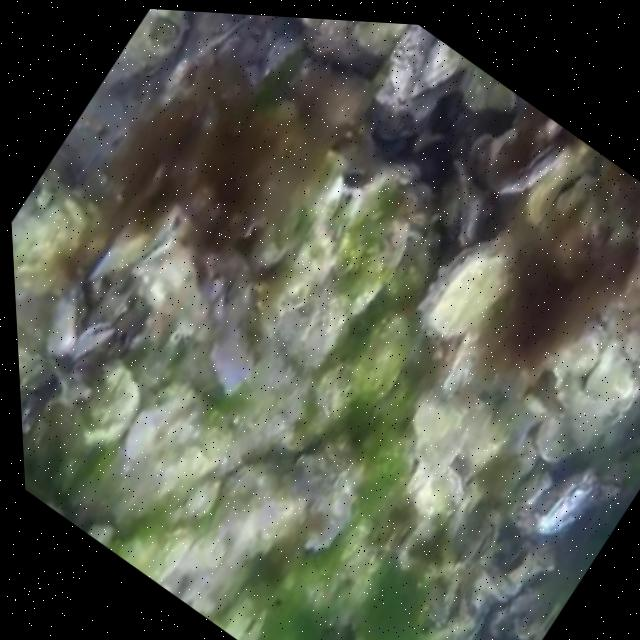Oyster-Closed: (416, 238, 515, 341), (537, 471, 623, 535), (210, 290, 255, 393), (499, 141, 571, 194), (458, 64, 516, 114), (51, 285, 88, 358), (455, 160, 486, 245), (144, 201, 185, 259), (349, 21, 406, 54), (555, 172, 595, 215), (69, 322, 114, 356), (506, 543, 536, 585), (532, 538, 554, 572), (544, 117, 564, 139), (632, 236, 640, 290)
Oyster-Indeterminate: (12, 168, 103, 293), (98, 9, 188, 89), (413, 391, 468, 475), (15, 281, 58, 387), (356, 316, 412, 395), (112, 531, 192, 584), (389, 24, 435, 99), (550, 326, 604, 388), (443, 321, 490, 391), (412, 39, 466, 94), (586, 341, 632, 397), (415, 471, 462, 515), (536, 414, 577, 460), (266, 34, 303, 77), (303, 18, 348, 51)
Oyster-Open: (462, 509, 499, 572)
